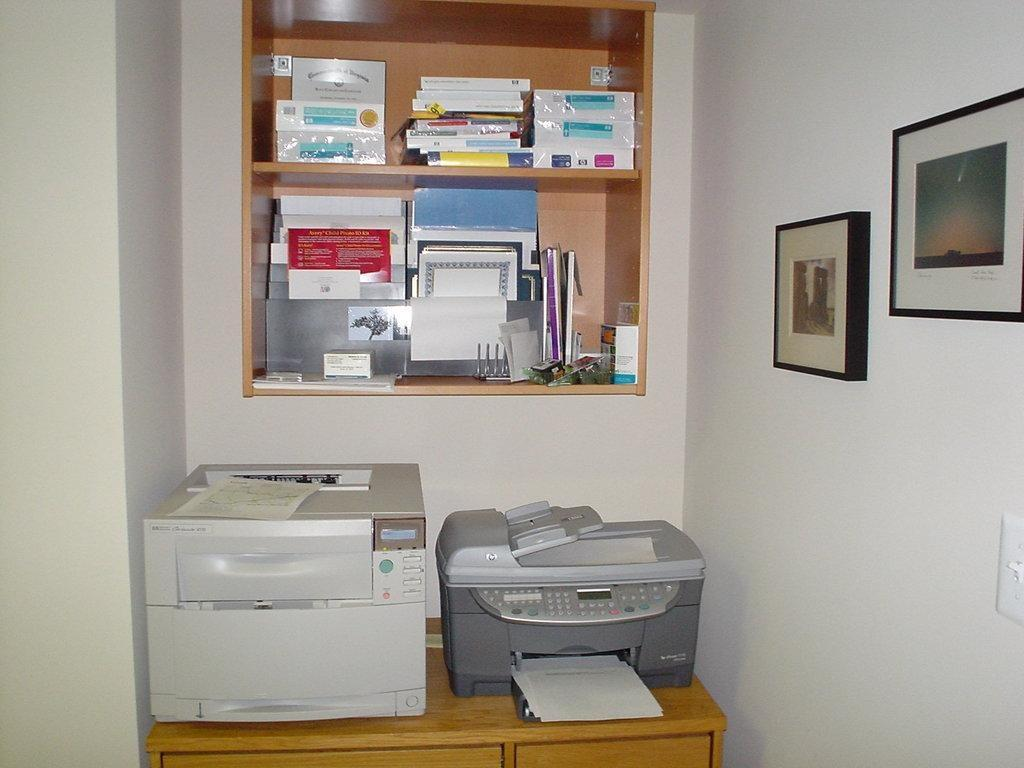Printer: (434, 499, 707, 720)
Rak: (241, 0, 656, 397)
